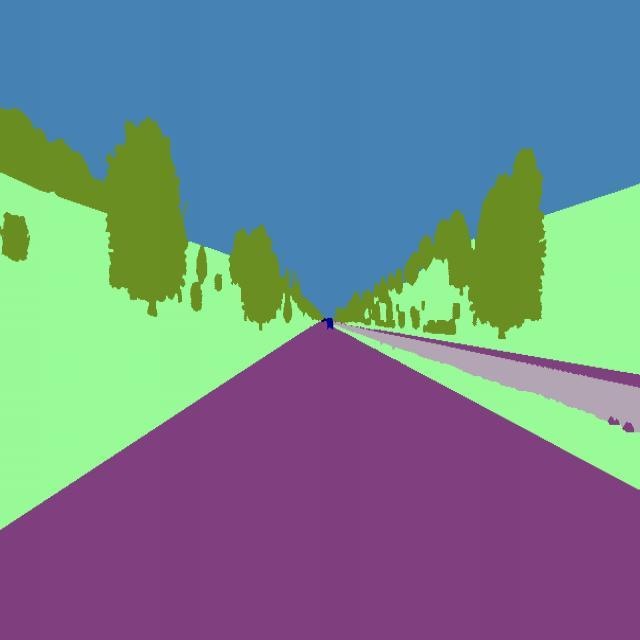safe: (324, 314, 336, 332)
